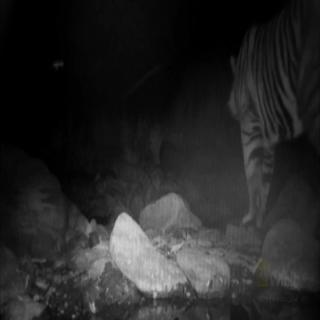Tiger: (226, 4, 314, 232)
